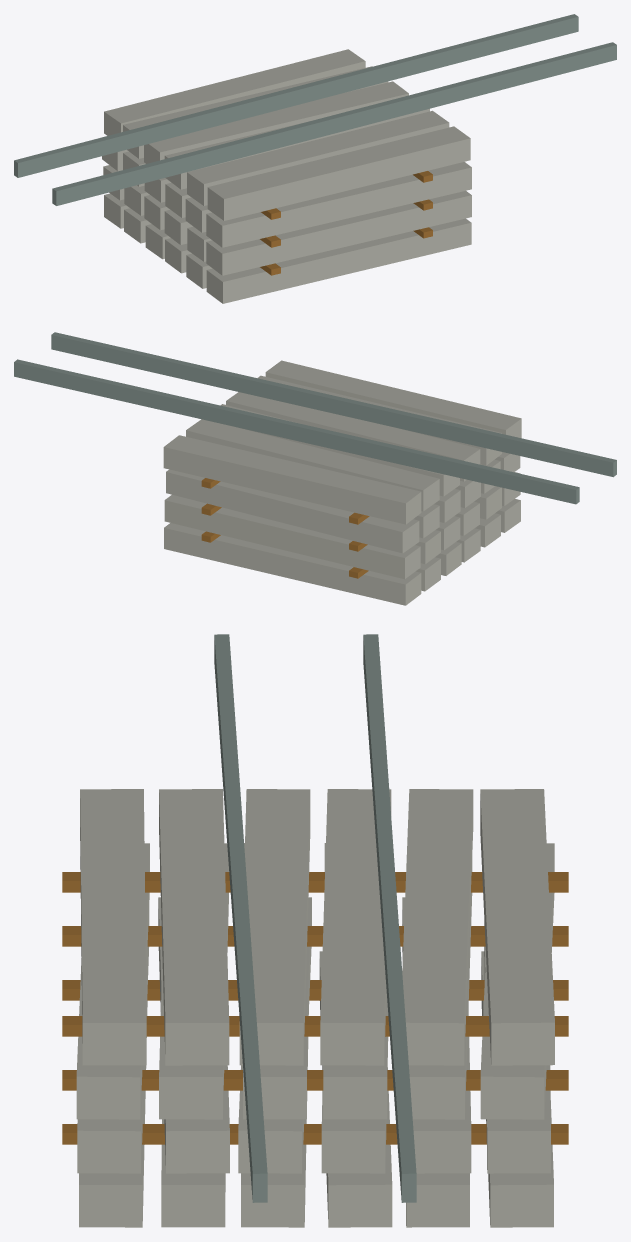
File: SM_TraviesasSueltas_v3_ConCarriles_LOD0.fbx
3 views of the same model, one above another, from view 1: azimuth 30°, elevation 25°; view 2: azimuth 150°, elevation 25°; view 3: azimuth 270°, elevation 25° (orthographic). The views are drawn at different scales.
Parts seen in each view (by area): view 1: SM_traviesas_sueltas_v3_LOD0; view 2: SM_traviesas_sueltas_v3_LOD0; view 3: SM_traviesas_sueltas_v3_LOD0.
Part boxes in pixels (<box>): SM_traviesas_sueltas_v3_LOD0: <box>14,14,616,303</box>; SM_traviesas_sueltas_v3_LOD0: <box>14,332,616,605</box>; SM_traviesas_sueltas_v3_LOD0: <box>62,634,568,1227</box>.
Size of the model in its own units: 6 by 1.21 by 2.38.
